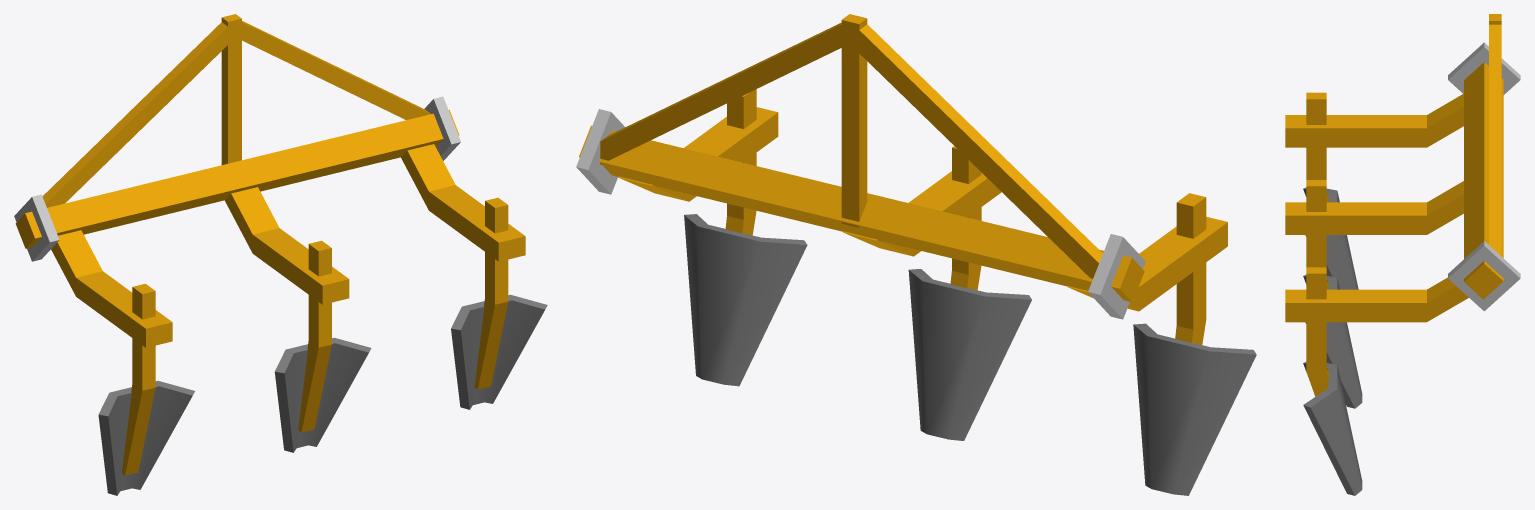
File: Plow_1.FBX
3 views of the same model, side by side, from view 1: azimuth 30°, elevation 25°; view 2: azimuth 150°, elevation 25°; view 3: azimuth 270°, elevation 25° (orthographic). The views are drawn at different scales.
Parts seen in each view (by area): view 1: Plow_1; view 2: Plow_1; view 3: Plow_1.
Part boxes in pixels (left/top/right/bottom): Plow_1: left=14, top=14, right=547, bottom=495; Plow_1: left=576, top=14, right=1256, bottom=495; Plow_1: left=1285, top=14, right=1520, bottom=495.
Bounding box in the file's own units: 1.43 × 1.15 × 0.6407.
1 material, 1 textured.
